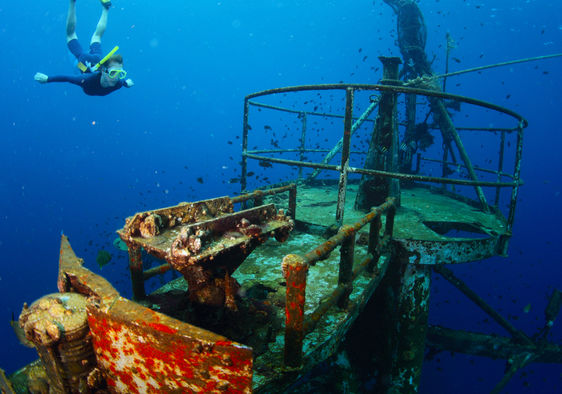Divers: (35, 1, 138, 119)
Non Plastic: (175, 70, 539, 273)
